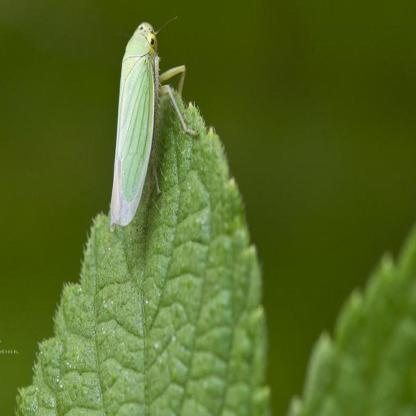green-leafhopper: (108, 20, 193, 235)
